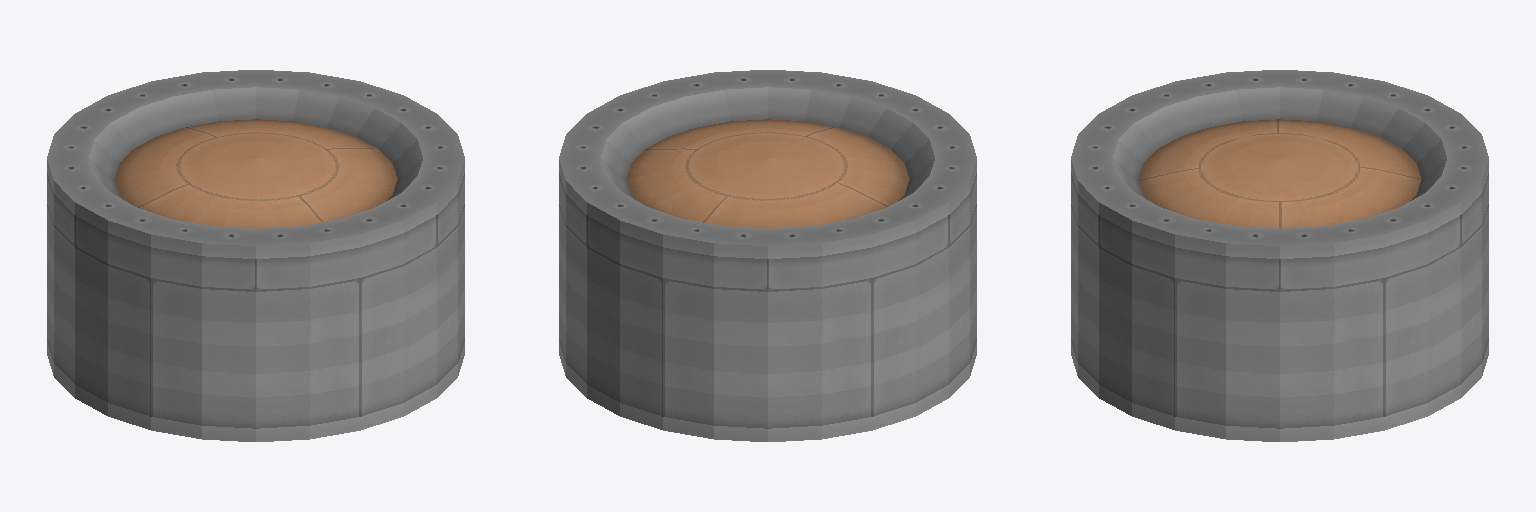
3 views of the same model, side by side, from view 1: azimuth 30°, elevation 25°; view 2: azimuth 150°, elevation 25°; view 3: azimuth 270°, elevation 25° (orthographic).
Parts seen in each view (by area): view 1: Knight_LFO_C; view 2: Knight_LFO_C; view 3: Knight_LFO_C.
Boxes of the visible parts, <box> form: Knight_LFO_C: <box>47,70,464,441</box>; Knight_LFO_C: <box>559,70,976,441</box>; Knight_LFO_C: <box>1071,70,1488,441</box>.
Size of the model in its own units: 0.9375 by 0.485 by 0.9375.
1 materials, 1 textured.